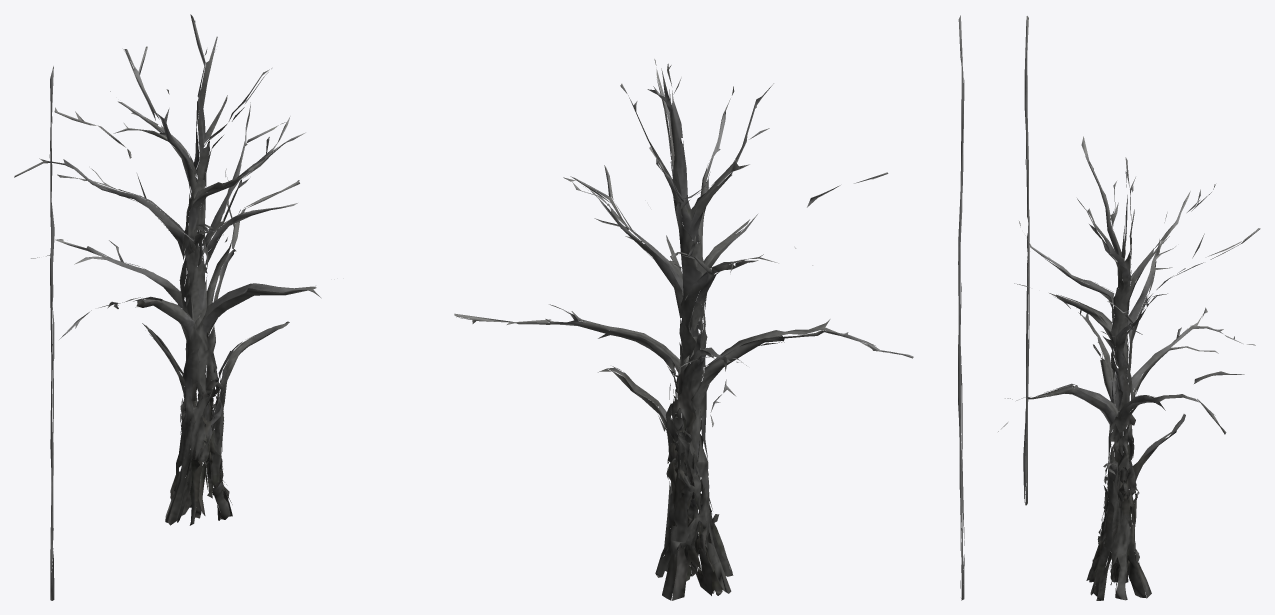
File: betula_gelida_morta.glb
3 renders of one model, left to right at view 1: azimuth 30°, elevation 25°; view 2: azimuth 150°, elevation 25°; view 3: azimuth 270°, elevation 25°, orthographic. The views are drawn at different scales.
Parts seen in each view (by area): view 1: geometry_0; view 2: geometry_0; view 3: geometry_0.
Part boxes in pixels (x1=…): geometry_0: x1=14, y1=14, x2=321, y2=600; geometry_0: x1=454, y1=15, x2=964, y2=600; geometry_0: x1=998, y1=16, x2=1260, y2=600.
Size of the model in its own units: 0.7001 by 0.9997 by 0.4919.
1 material, 1 textured.
